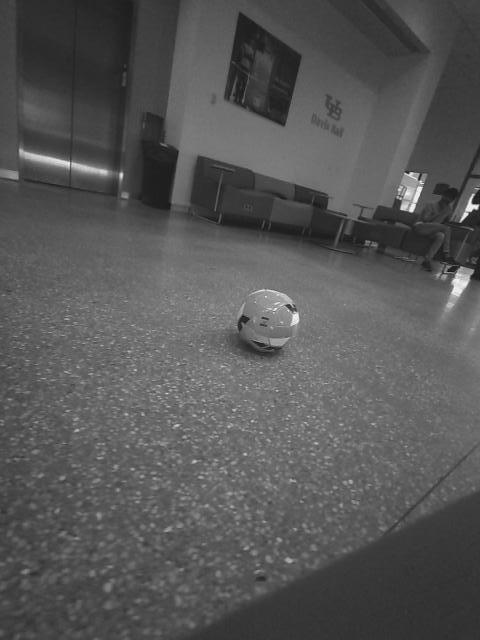ball: (192, 236, 238, 277)
